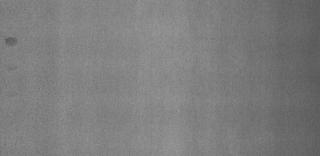oil spot: (4, 34, 18, 48)
